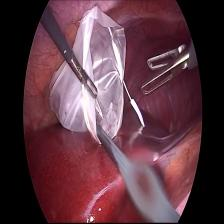Grasper: (134, 36, 198, 101), (67, 55, 99, 99)
Specimen Bag: (48, 6, 146, 140)
